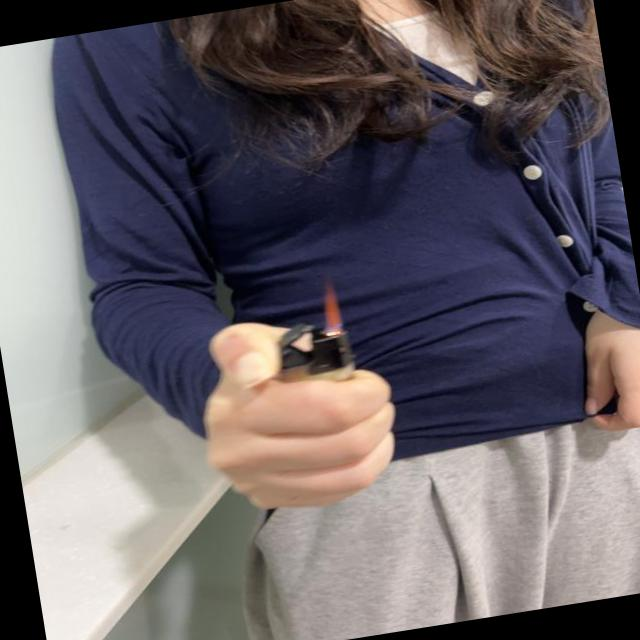Fire: (321, 280, 345, 335)
